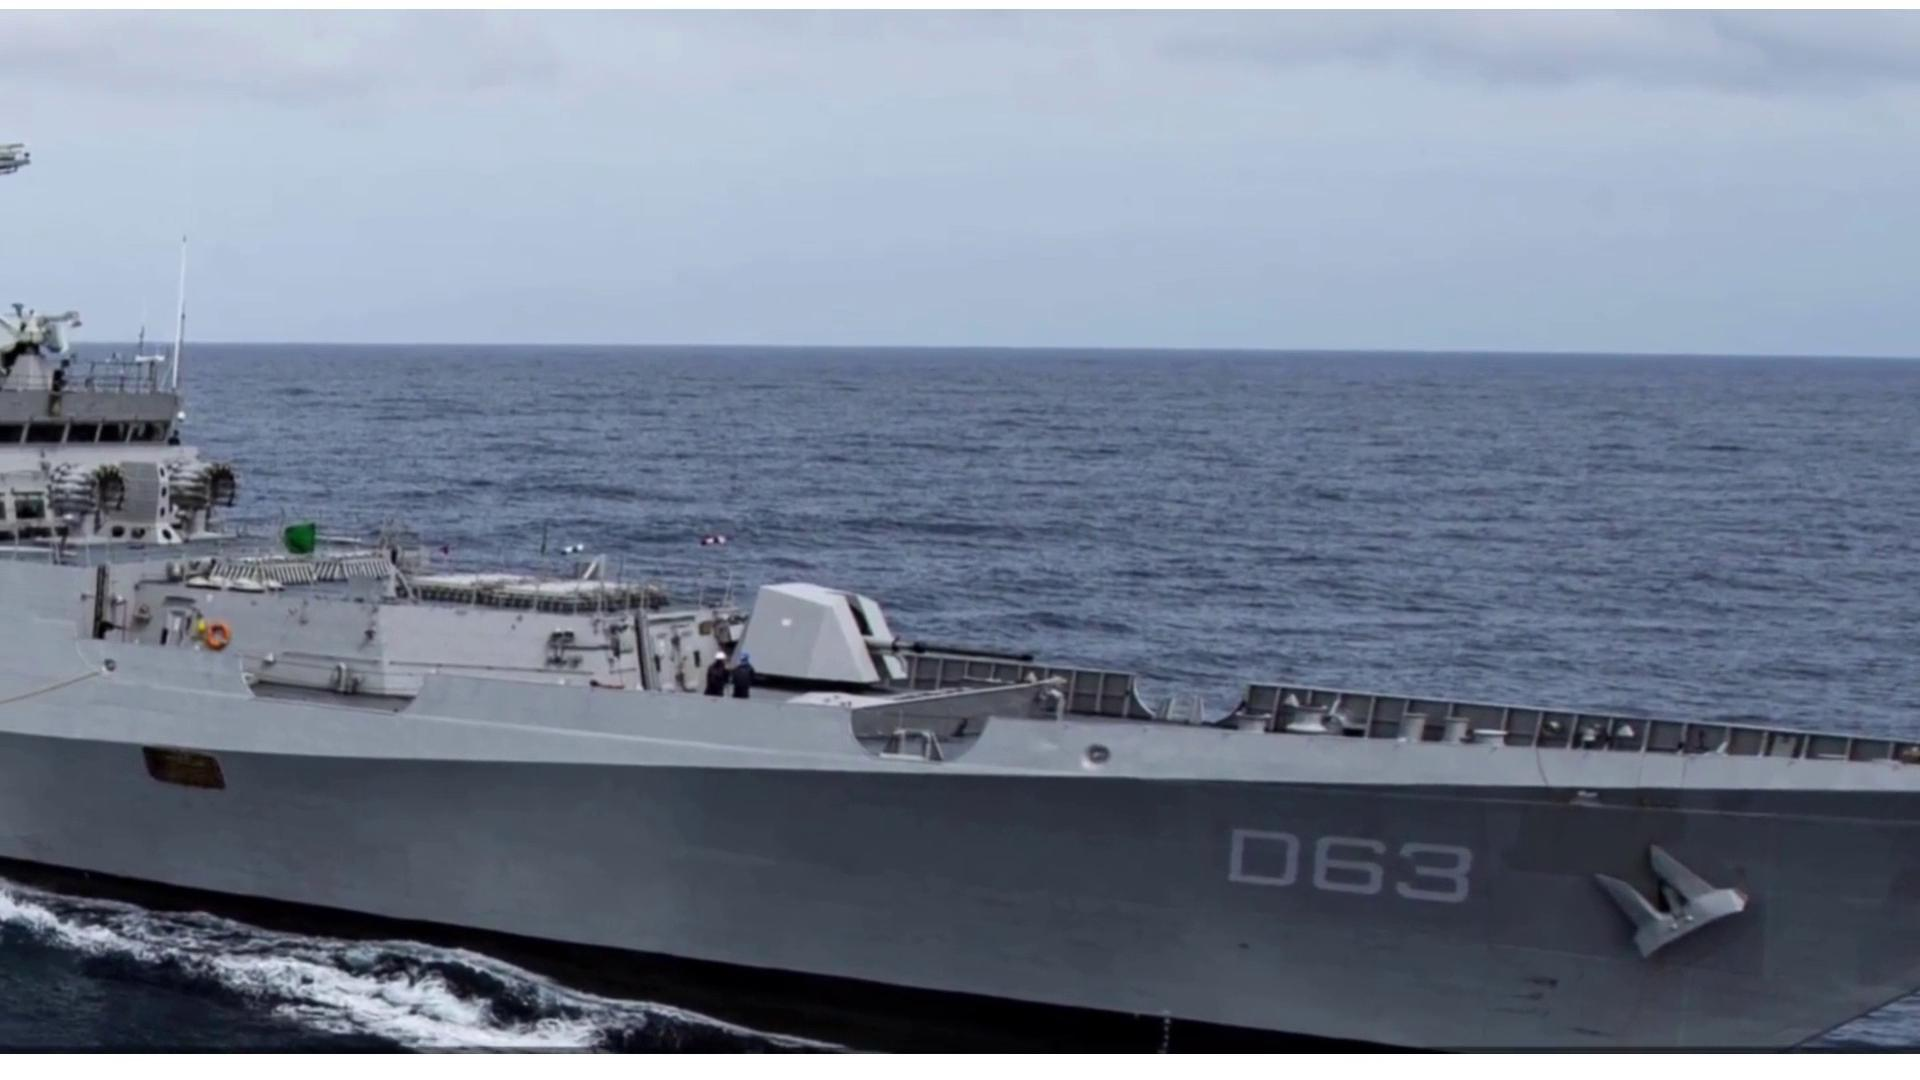OCR: (1216, 818, 1486, 916)
